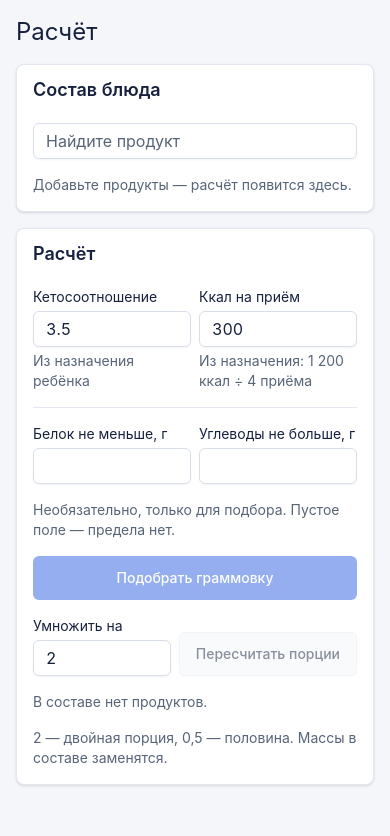
Test case: калькулятор в Mini App › сетевой сбой — ответа нет вовсе — тоже можно повторить
This screenshot has width=390, height=836.
In the search field labelled "Найдите продукт": (195,141) [33,123,357,159], type "масло"
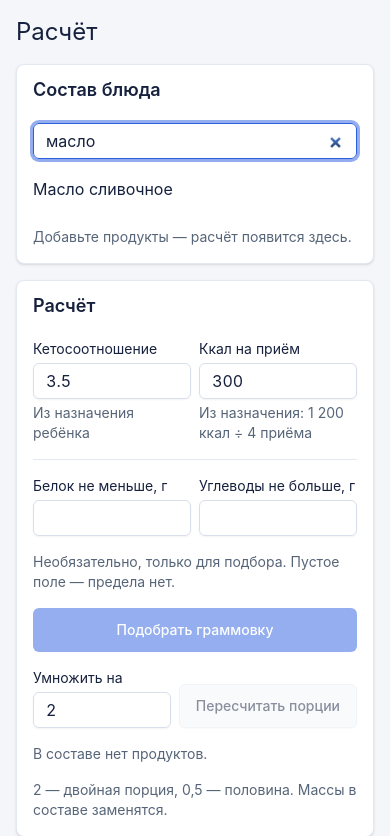
Click the button "Масло сливочное": (103,189) [33,167,357,211]
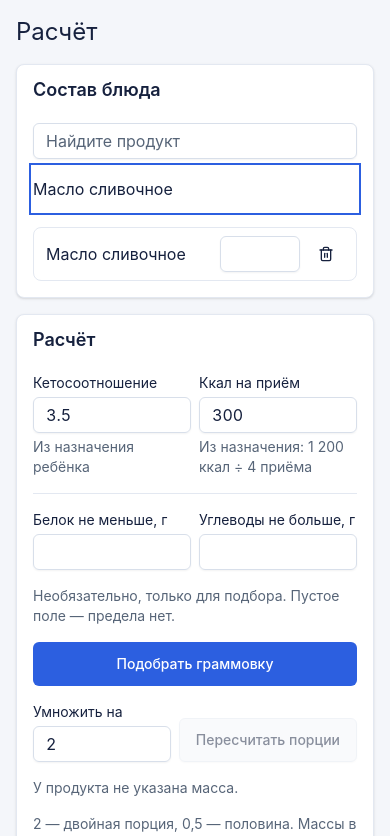
In the field named "Масло сливочное, граммы": (260,254) [220,236,300,272], type "30"
(page scrolled)
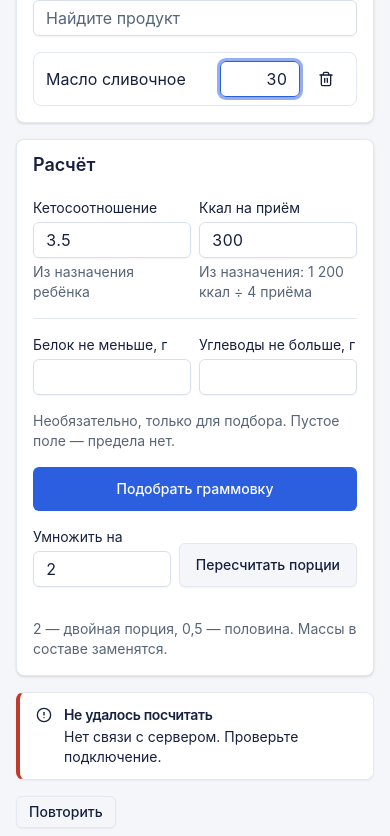
Click the button "Повторить": (66,812) [16,796,116,828]
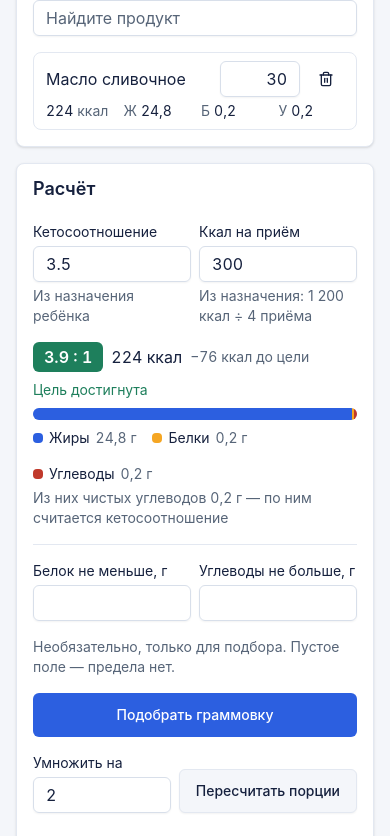
Expected: the text "224 ккал" is shown, [111,345,182,369]
